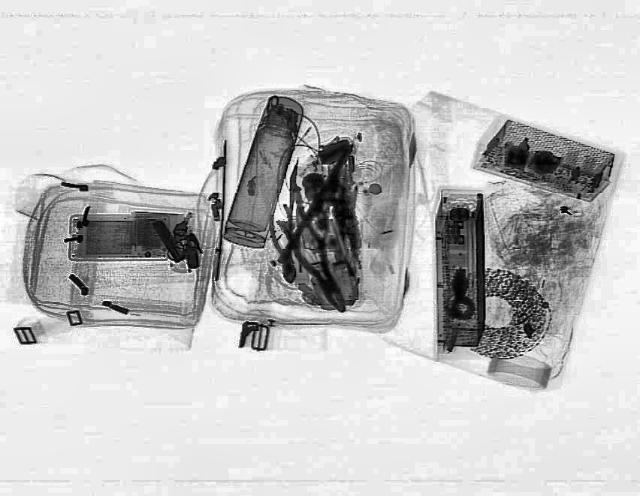Pliers: (269, 205, 363, 318), (265, 202, 301, 284)
